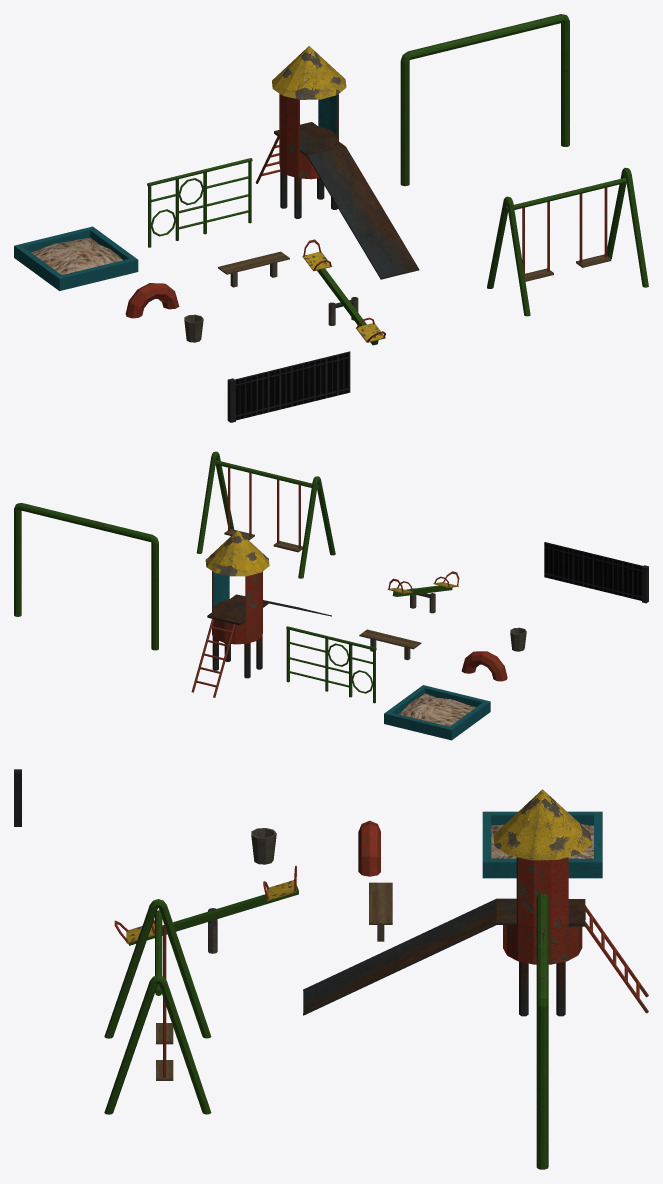
The model's file is Playground.glb.
The picture shows the model from 3 angles, top to bottom: view 1: azimuth 30°, elevation 25°; view 2: azimuth 150°, elevation 25°; view 3: azimuth 270°, elevation 25°; orthographic projection. The views are drawn at different scales.
Visible parts, largest first — view 1: Slide, Sandbox, FencePanel, Arch_1, SwingBase, Ladder_2, Seesaw, Arch_2, Bench, Swing.001, Swing; view 2: Slide, Sandbox, FencePanel, Arch_1, SwingBase, Ladder_2, Arch_2, Ladder_1, Seesaw, Bench, Swing, Swing.001; view 3: Slide, SwingBase, Arch_1, Sandbox, Seesaw, Arch_2, Bench, Ladder_1, TrashBucket, Swing.001.
Part boxes in pixels (x1,y1,x2,y2): Slide: (272,46,419,279); Sandbox: (14,226,138,290); FencePanel: (235,351,350,420); Arch_1: (400,14,569,186); SwingBase: (487,167,648,316); Ladder_2: (147,158,252,247); Seesaw: (302,239,385,345); Arch_2: (125,283,179,318); Bench: (218,251,289,287); Swing.001: (576,182,611,267); Swing: (522,201,553,281); Slide: (205,530,331,678); Sandbox: (384,685,490,740); FencePanel: (544,542,642,600); Arch_1: (14,503,158,650); SwingBase: (196,451,335,578); Ladder_2: (286,626,376,703); Arch_2: (461,651,507,681); Ladder_1: (191,618,235,697); Seesaw: (387,571,459,596); Bench: (359,629,421,660); Swing: (273,479,302,552); Swing.001: (224,467,254,540); Slide: (303,789,591,1016); SwingBase: (104,899,211,1114); Arch_1: (536,893,548,1169); Sandbox: (482,811,602,878); Seesaw: (114,866,298,945); Arch_2: (358,820,380,876); Bench: (369,882,392,941); Ladder_1: (585,905,648,1013); TrashBucket: (251,828,276,864); Swing.001: (156,962,173,1080).
Size of the model in its own units: 13.68 by 3.97 by 10.59.
Materials: 2 (2 with a texture image).
